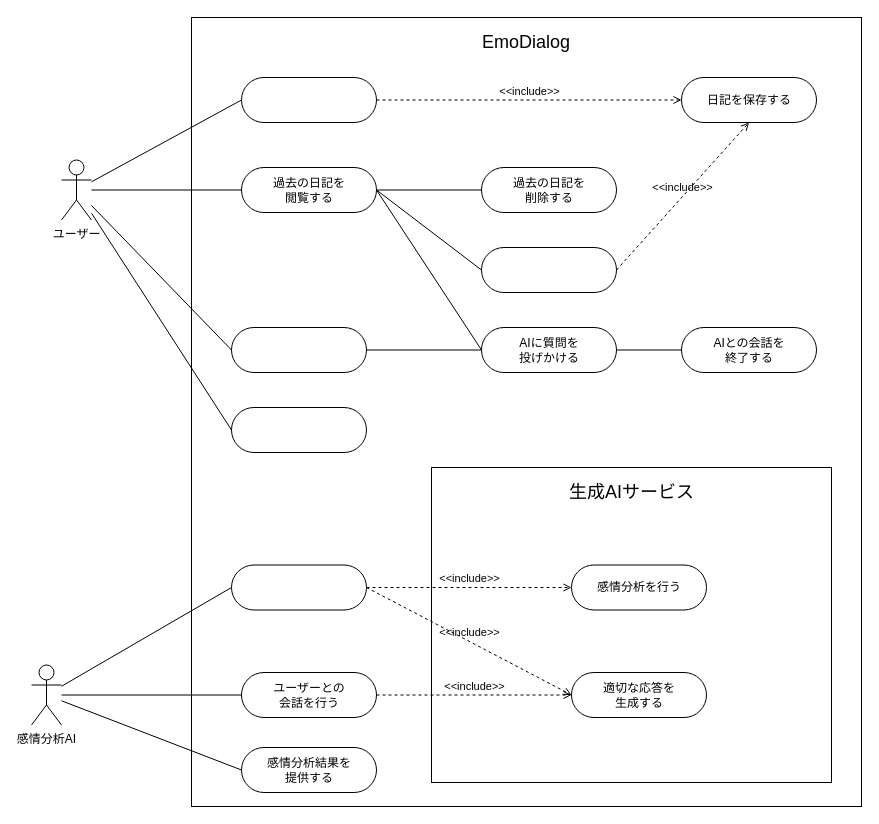
Some shapes in this 879 by 824 pixel diagram are drawn without their labels. The shapes that lost their labels are listed below. From the top down, each one's centre as x and y in pixels, then its label:
[308,99]: 日記を記録する
[548,269]: 過去の日記を 編集する
[298,349]: AIとの会話を 開始する
[298,429]: 感情分析結果を閲覧する
[298,587]: 日記の内容を 分析する
